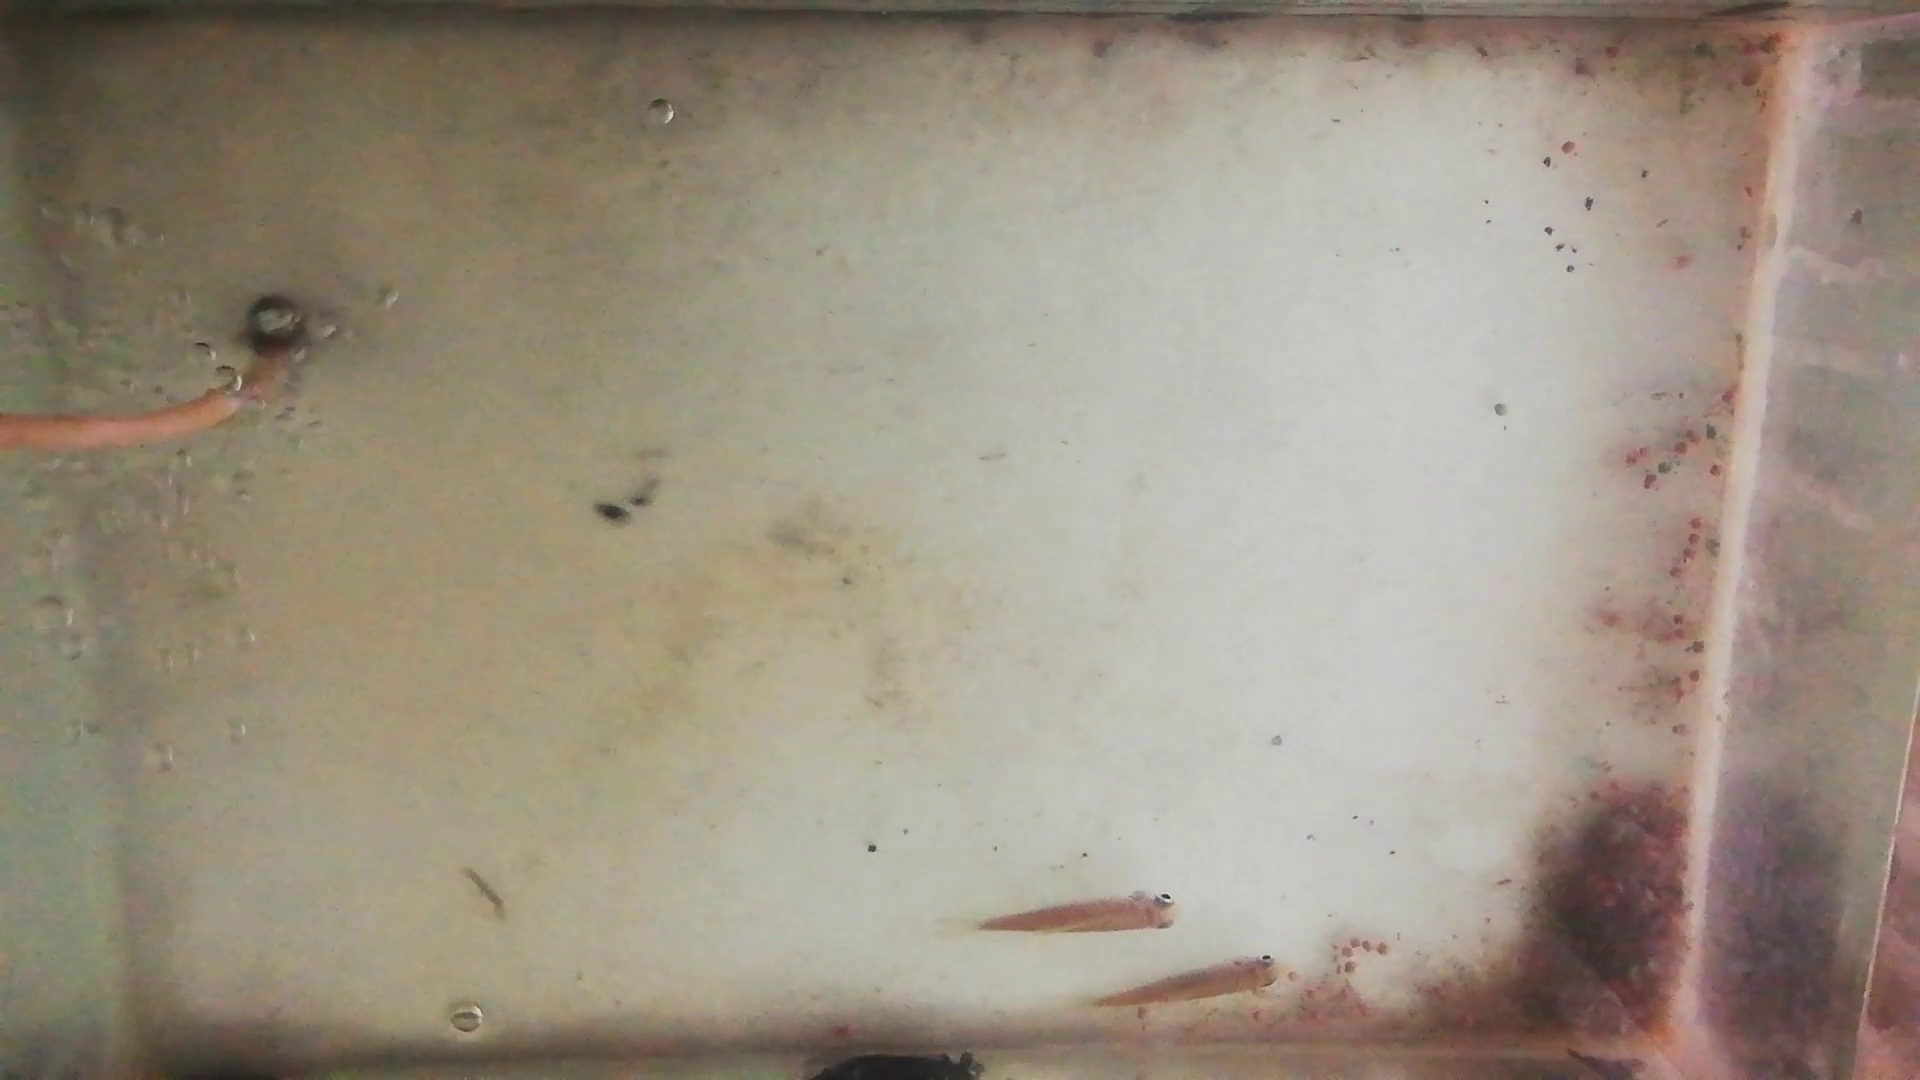fish: (1093, 953, 1286, 1006), (978, 891, 1180, 938)
